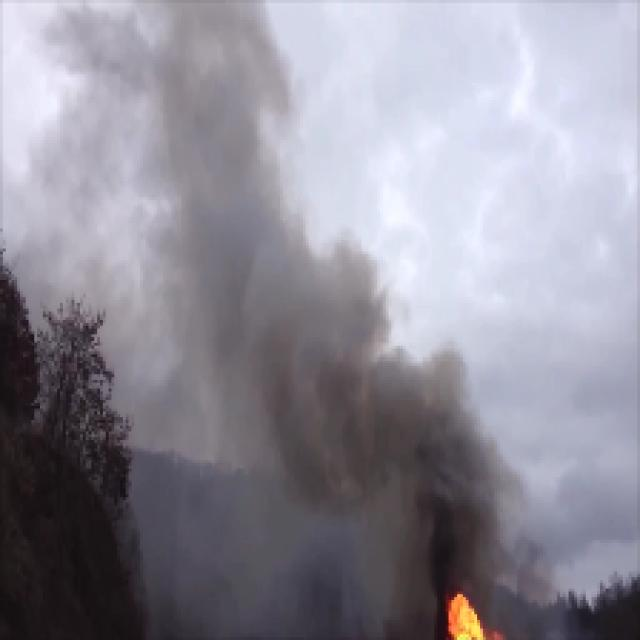smoke: (70, 10, 280, 352), (289, 269, 454, 536)
